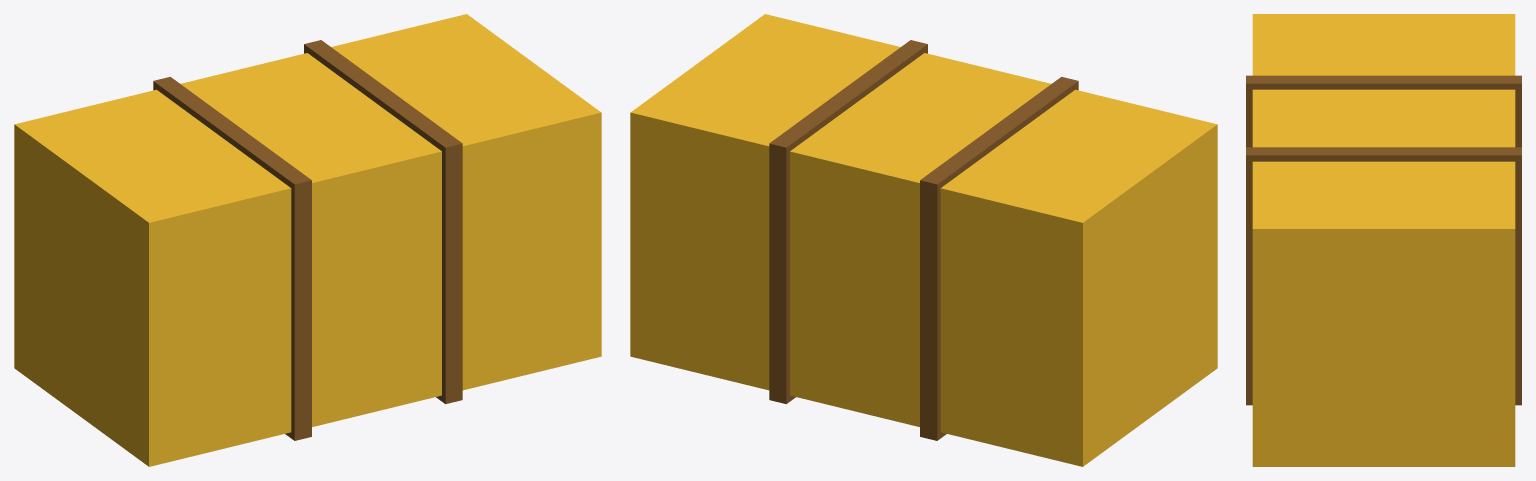
Rendered from FarmStraw_01.fbx.
The picture shows the model from 3 angles, left to right: view 1: azimuth 30°, elevation 25°; view 2: azimuth 150°, elevation 25°; view 3: azimuth 270°, elevation 25°; orthographic projection. The views are drawn at different scales.
Visible parts, largest first — view 1: FarmStraw_01; view 2: FarmStraw_01; view 3: FarmStraw_01.
Part boxes in pixels (x1,y1,x2,y2): FarmStraw_01: [14, 14, 601, 466]; FarmStraw_01: [630, 14, 1217, 466]; FarmStraw_01: [1246, 14, 1521, 466].
Size of the model in its own units: 0.2605 by 0.1411 by 0.1411.
